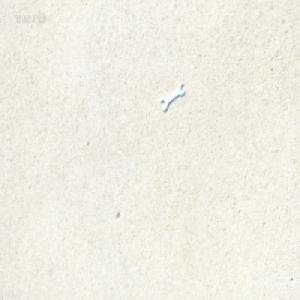Wrench: (162, 85, 185, 113)
